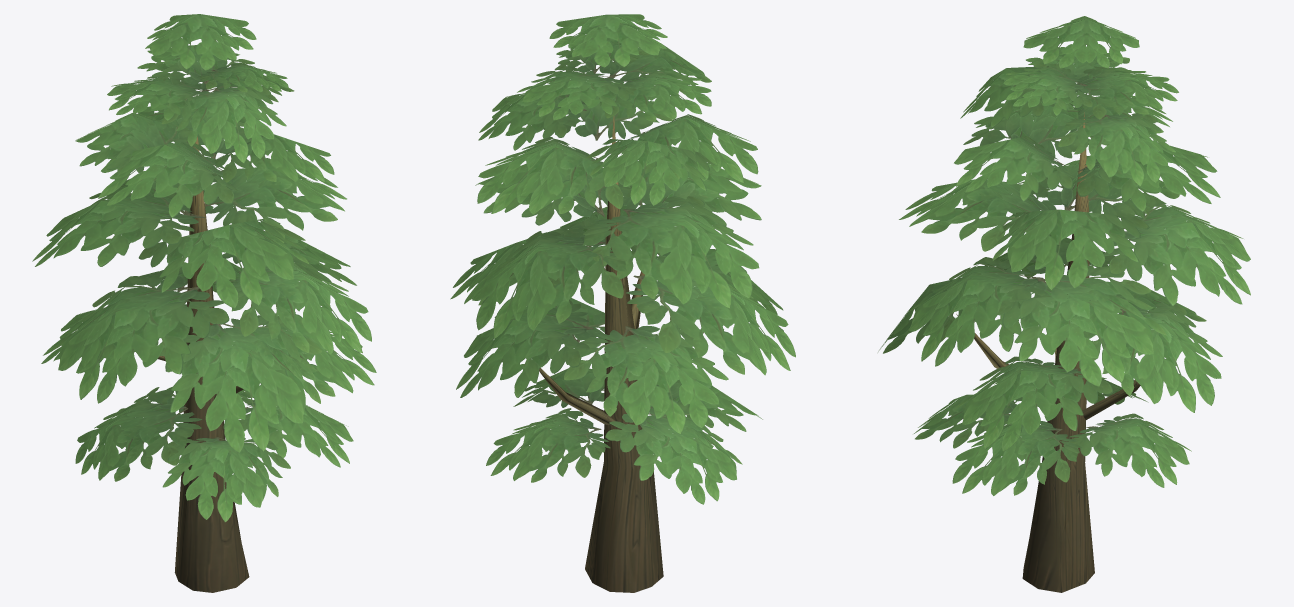
The model's file is main_map_tree_08a.fbx.
3 views of the same model, side by side, from view 1: azimuth 30°, elevation 25°; view 2: azimuth 150°, elevation 25°; view 3: azimuth 270°, elevation 25° (orthographic). The views are drawn at different scales.
Visible parts, largest first — view 1: main_map_tree_08a_LOD0; view 2: main_map_tree_08a_LOD0; view 3: main_map_tree_08a_LOD0.
Boxes of the visible parts, x1,y1,x2,y2 form: main_map_tree_08a_LOD0: (32,14,376,592); main_map_tree_08a_LOD0: (450,14,795,592); main_map_tree_08a_LOD0: (878,16,1250,592).
Size of what is drawn, in the model's own units: 168 by 252 by 176.
